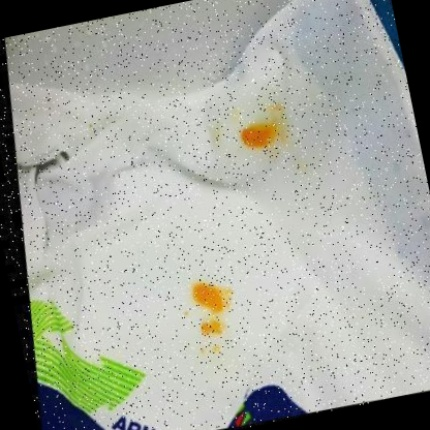kimchi: (236, 118, 290, 160), (191, 281, 228, 317), (199, 314, 228, 338), (198, 340, 220, 359), (272, 100, 293, 116), (185, 311, 190, 319)
